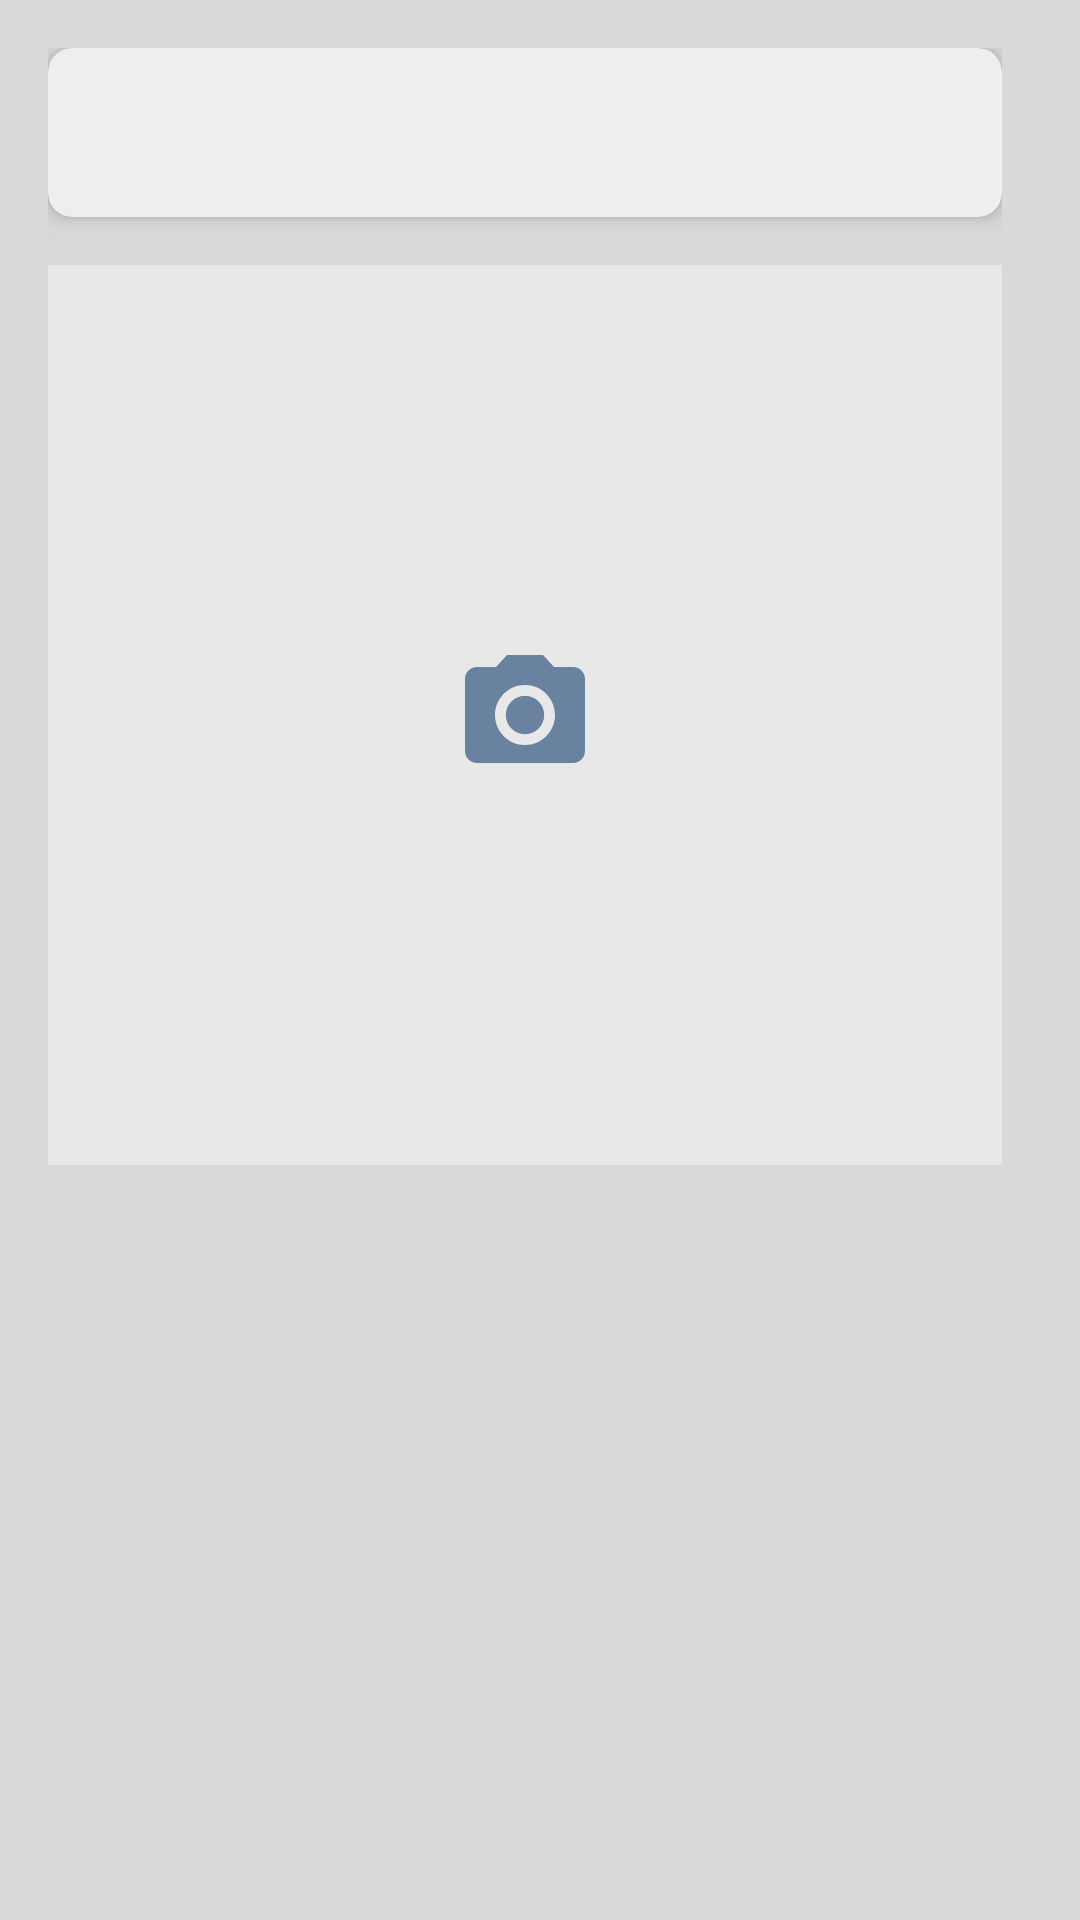

Where to tap for icons on this 1080px x 1920px app screen, as (x=x, y=y):
camera: (x=525, y=709)
